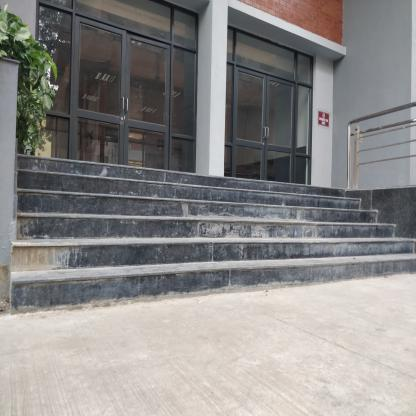stairs: (26, 190, 368, 298)
